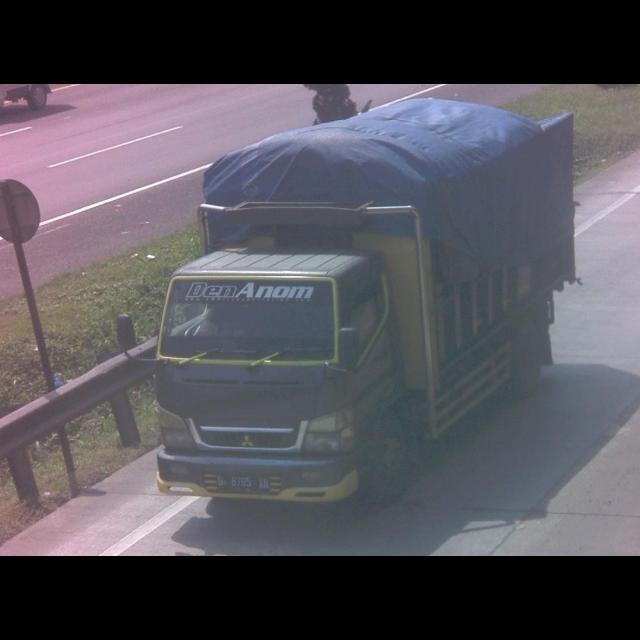plate: (215, 474, 272, 494)
